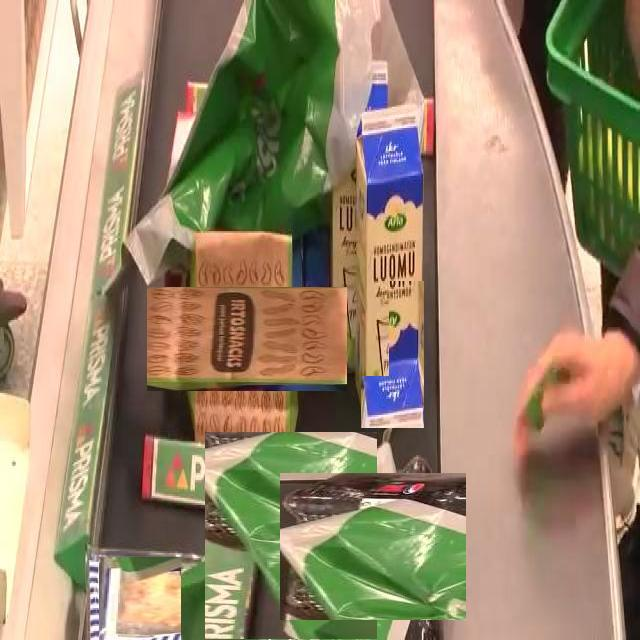beverage: (290, 462, 457, 630), (360, 114, 424, 428), (333, 56, 389, 376)
food-box: (171, 263, 323, 416), (98, 556, 182, 640)
utility-box: (140, 0, 425, 281), (188, 448, 394, 640)
